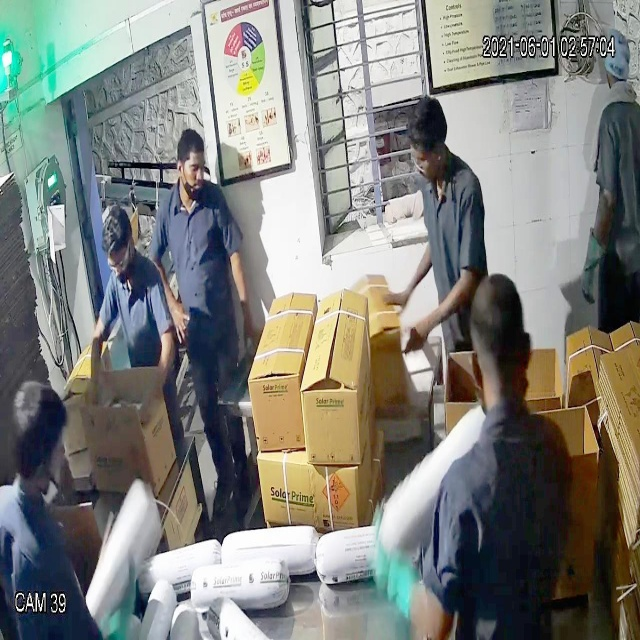Gafas: (99, 239, 142, 276)
